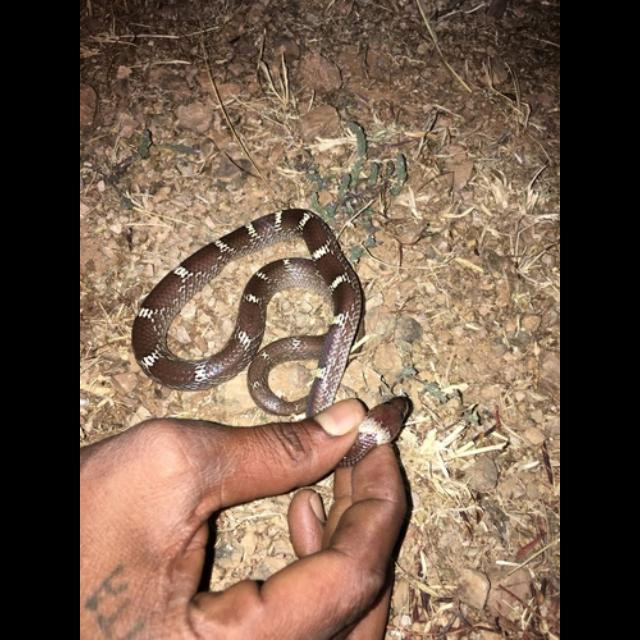snake: (129, 195, 431, 458)
